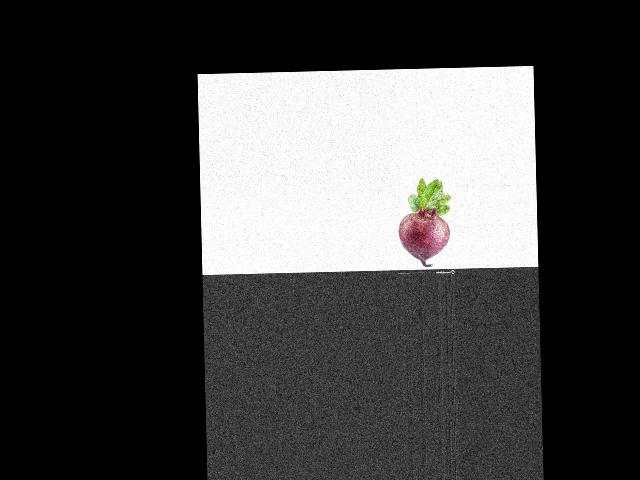beet: (396, 177, 452, 266)
